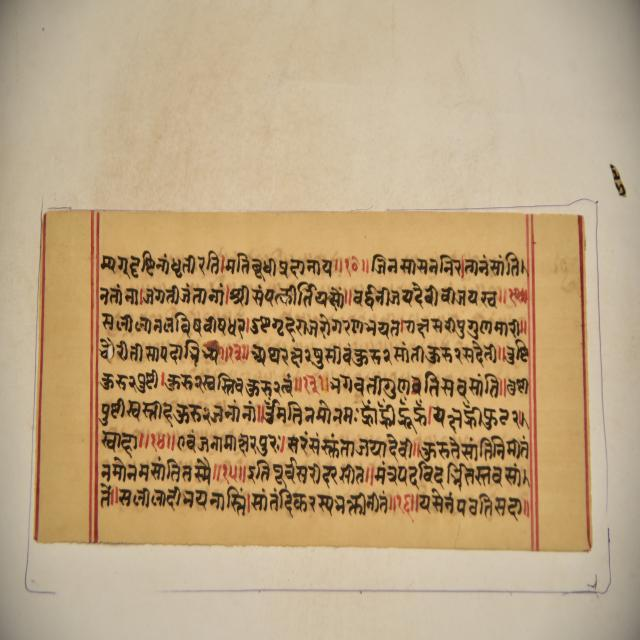text_paragraph: (35, 208, 593, 554)
